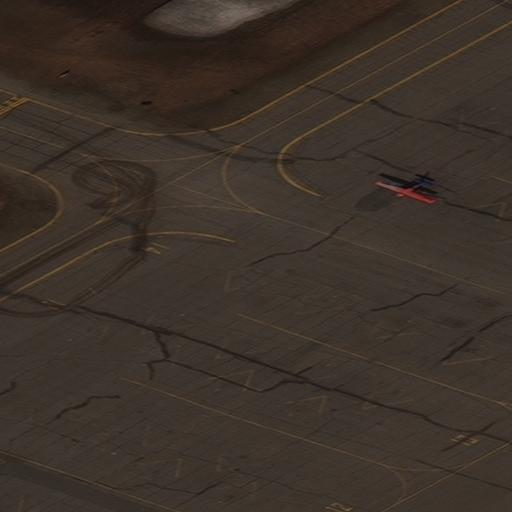Small Civil Transport: (374, 177, 431, 204)
